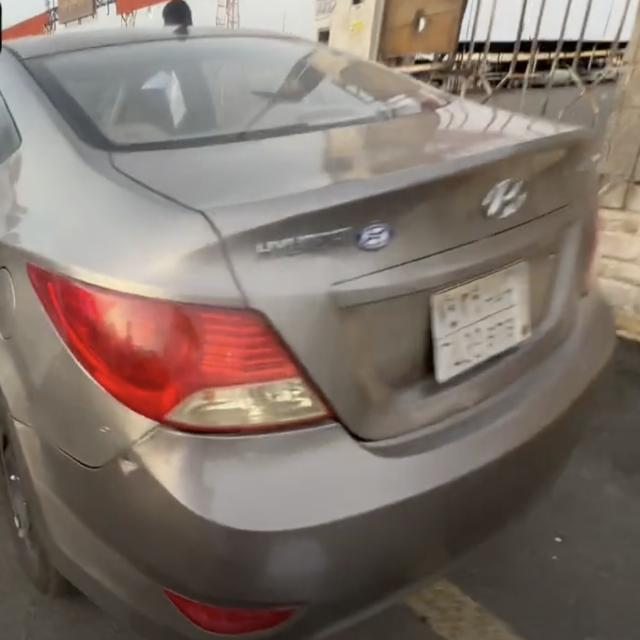license_plate: (426, 257, 540, 396)
